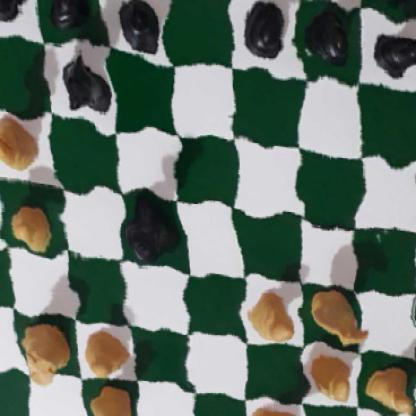black-bishop: (105, 0, 172, 65)
black-knight: (51, 41, 115, 129)
black-pawn: (239, 0, 288, 63), (369, 15, 416, 79), (310, 10, 355, 71), (43, 0, 95, 40), (0, 0, 28, 25)
black-queen: (116, 196, 180, 269)
black-rook: (368, 0, 416, 8)
white-bishop: (0, 112, 47, 176), (87, 379, 140, 416)
white-king: (248, 402, 303, 416)
white-knight: (308, 284, 372, 343)
white-pawn: (6, 197, 58, 256), (367, 361, 416, 416), (307, 352, 354, 408), (81, 332, 130, 383), (252, 288, 294, 346)
white-rook: (11, 316, 76, 386)
